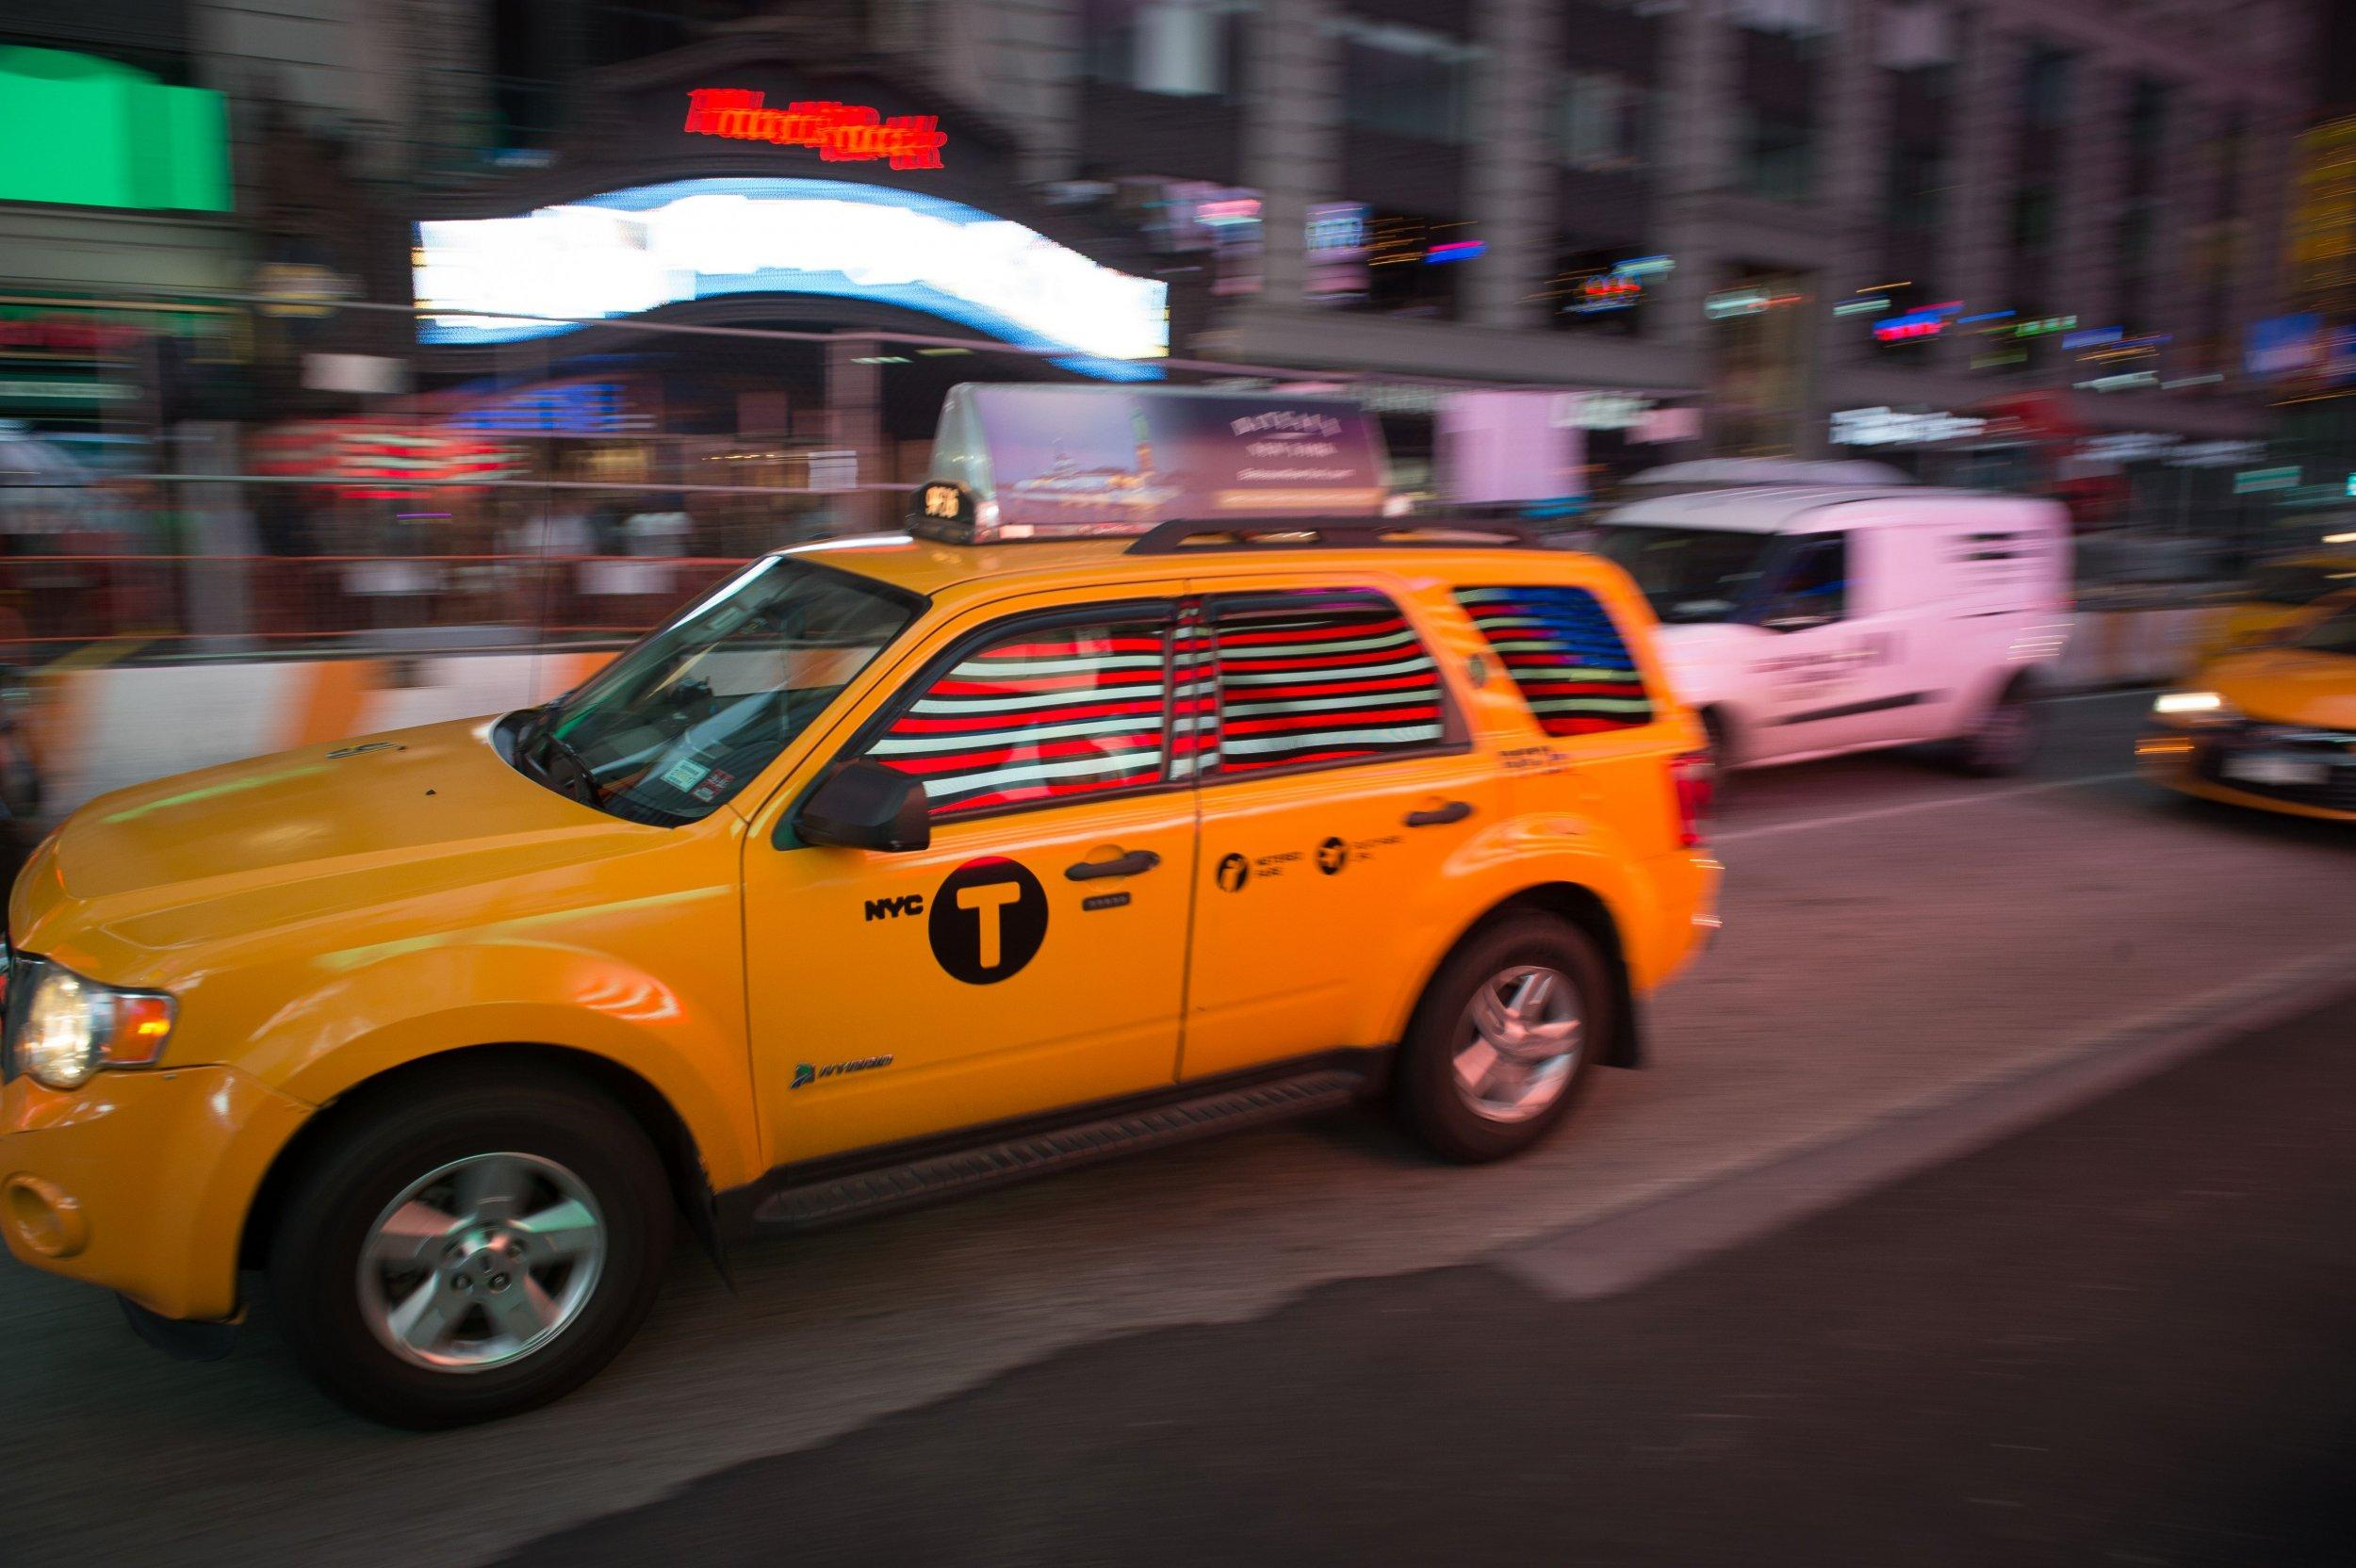taxi: (4, 560, 1941, 1416)
